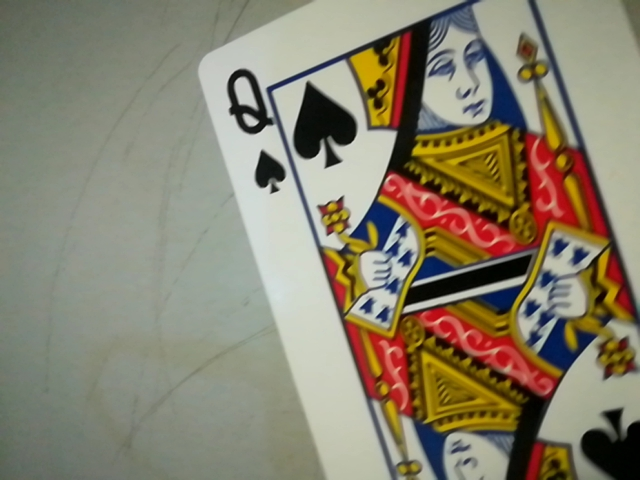ht q: (216, 57, 287, 202)
